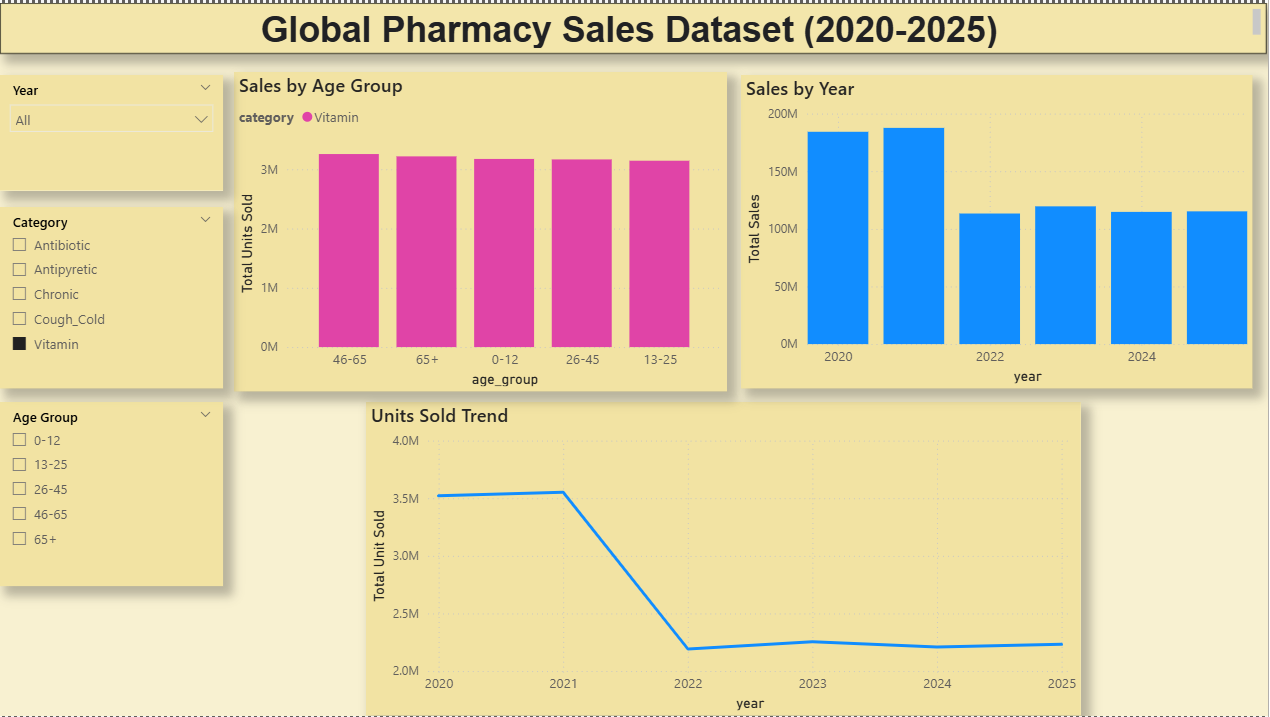

The page's visual inventory and layout, read from the dashboard file:
{"tool":"powerbi","page":{"name":"SALES PERFORMANCE","canvas":[1280,720],"ordinal":1},"visuals":[{"type":"textbox","box":[0,0,1279.5,51.5],"z":1000},{"type":"lineChart","title":"Units Sold Trend","fields":{"Category":["global_pharmacy_sales_2020_2025.year"],"Y":["Sum(global_pharmacy_sales_2020_2025.units_sold)"]},"box":[369.5,402.8,722.3,316.5],"z":6000},{"type":"columnChart","title":"Sales by Age Group","fields":{"Category":["global_pharmacy_sales_2020_2025.age_group"],"Y":["Sum(global_pharmacy_sales_2020_2025.units_sold)"],"Series":["global_pharmacy_sales_2020_2025.category"]},"box":[236.2,69.7,498.2,322.5],"z":7000},{"type":"clusteredColumnChart","title":"Sales by Year","fields":{"Y":["global_pharmacy_sales_2020_2025.Total Sales"],"Category":["global_pharmacy_sales_2020_2025.year"]},"box":[748,72.7,516.3,316.5],"z":8000},{"type":"slicer","fields":{"Values":["global_pharmacy_sales_2020_2025.year"]},"box":[0,72.7,225.6,116.6],"z":9000},{"type":"slicer","fields":{"Values":["global_pharmacy_sales_2020_2025.category"]},"box":[0,205.9,225.6,183.2],"z":10000},{"type":"slicer","fields":{"Values":["global_pharmacy_sales_2020_2025.age_group"]},"box":[0,402.8,225.6,186.2],"z":11000}]}

Visuals, with their boxes in screenshot pixels (x1, y1, x2, y2), scaled from the page's 1280x720 canvas onto the 1270x717 screenshot:
textbox: [0, 0, 1269, 51]
"Units Sold Trend" lineChart: [367, 401, 1083, 716]
"Sales by Age Group" columnChart: [234, 69, 729, 391]
"Sales by Year" clusteredColumnChart: [742, 72, 1254, 388]
slicer - global_pharmacy_sales_2020_2025.year: [0, 72, 224, 189]
slicer - global_pharmacy_sales_2020_2025.category: [0, 205, 224, 387]
slicer - global_pharmacy_sales_2020_2025.age_group: [0, 401, 224, 587]
